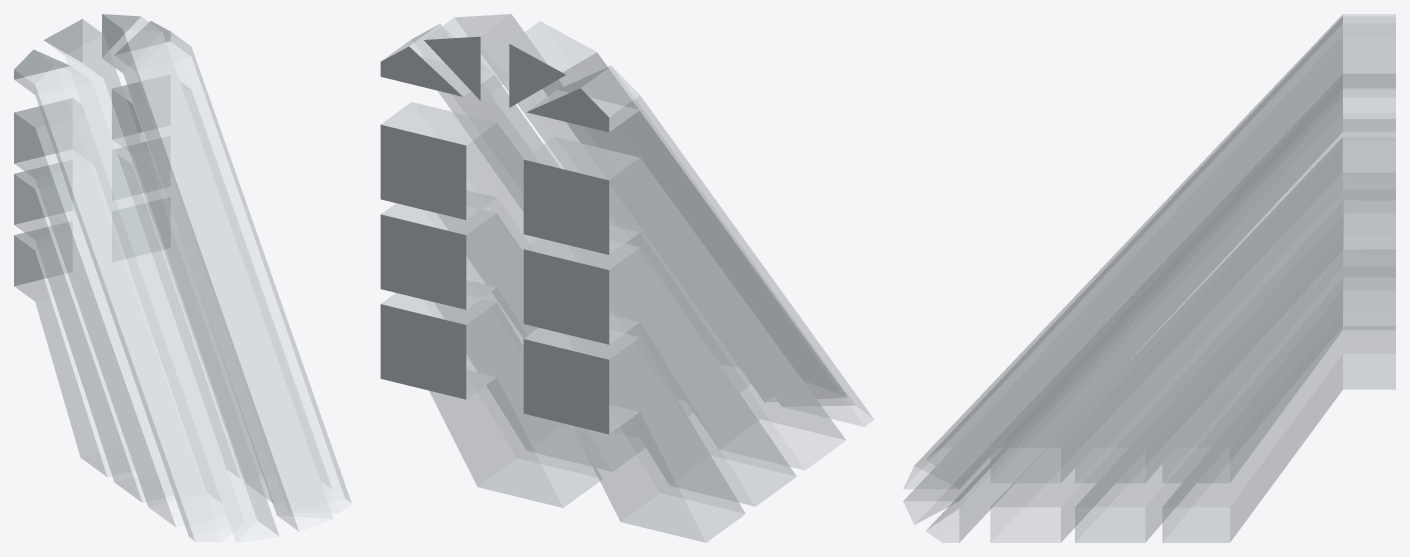
Rendered from Poly_Window_08_Light_A.obj.
3 renders of one model, left to right at view 1: azimuth 30°, elevation 25°; view 2: azimuth 150°, elevation 25°; view 3: azimuth 270°, elevation 25°, orthographic. The views are drawn at different scales.
Parts seen in each view (by area): view 1: Cube.004, Cube.003; view 2: Cube.004, Cube.003; view 3: Cube.004.
Part boxes in pixels (x1,y1,x2,y2): Cube.004: [14, 14, 351, 542]; Cube.003: [14, 14, 170, 286]; Cube.004: [380, 14, 873, 542]; Cube.003: [380, 36, 609, 434]; Cube.004: [903, 14, 1395, 542].
Size of the model in its own units: 0.8 by 1.83 by 1.75.
2 materials, 2 textured.
